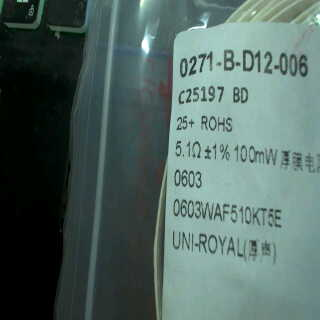5.1R: (174, 129, 202, 165)
